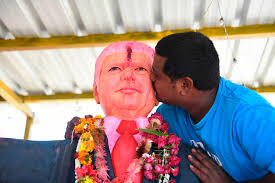Indian_Male: (148, 49, 180, 103)
